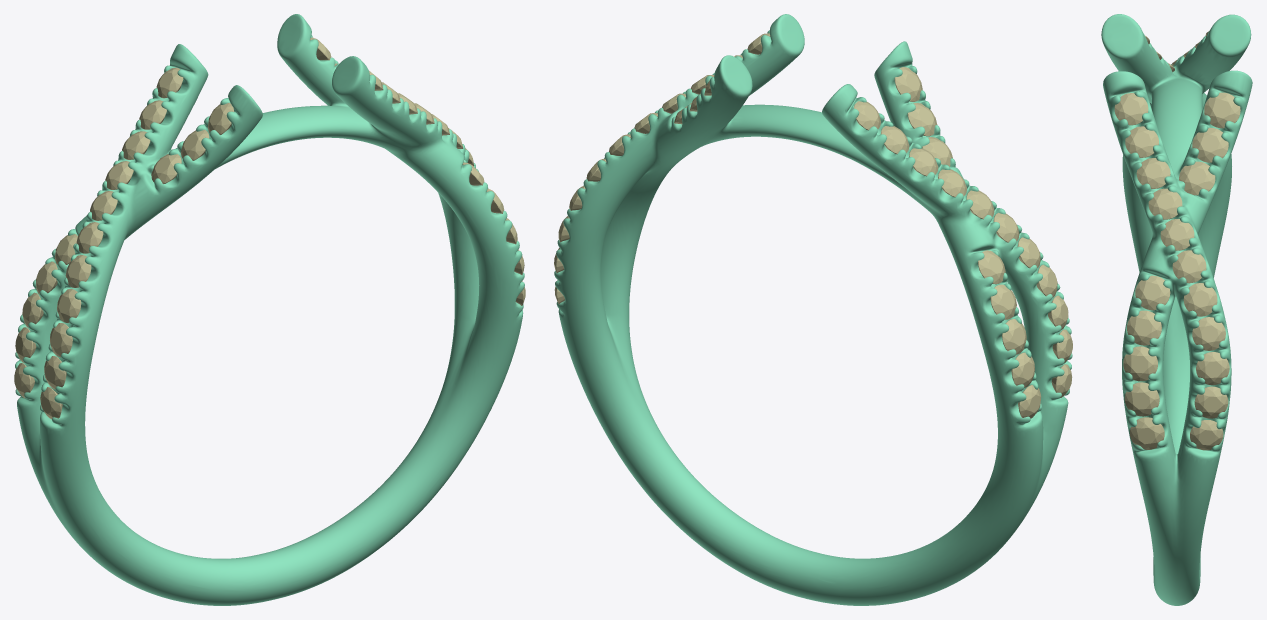
3 renders of one model, left to right at view 1: azimuth 30°, elevation 25°; view 2: azimuth 150°, elevation 25°; view 3: azimuth 270°, elevation 25°, orthographic.
Parts seen in each view (by area): view 1: Metal02; view 2: Metal02; view 3: Metal02, Diamond_Gem032, Diamond_Gem033, Diamond_Gem023, Diamond_Gem024, Diamond_Gem022, Diamond_Gem034, Diamond_Gem025, Diamond_Gem014, Diamond_Gem015, Diamond_Gem026, Diamond_Gem013 (+8 smaller).
Boxes of the visible parts, x1=… form: Metal02: x1=15, y1=14, x2=524, y2=605; Metal02: x1=554, y1=14, x2=1072, y2=605; Metal02: x1=1101, y1=14, x2=1252, y2=605; Diamond_Gem032: x1=1204, y1=92, x2=1240, y2=128; Diamond_Gem033: x1=1192, y1=127, x2=1228, y2=162; Diamond_Gem023: x1=1127, y1=310, x2=1161, y2=345; Diamond_Gem024: x1=1123, y1=346, x2=1157, y2=381; Diamond_Gem022: x1=1135, y1=275, x2=1170, y2=310; Diamond_Gem034: x1=1179, y1=161, x2=1215, y2=195; Diamond_Gem025: x1=1124, y1=382, x2=1159, y2=416; Diamond_Gem014: x1=1192, y1=317, x2=1225, y2=350; Diamond_Gem015: x1=1183, y1=283, x2=1217, y2=316; Diamond_Gem026: x1=1130, y1=417, x2=1164, y2=449; Diamond_Gem013: x1=1196, y1=352, x2=1229, y2=385.
Bounding box in the file's own units: 20.98 × 22.84 × 5.81.
